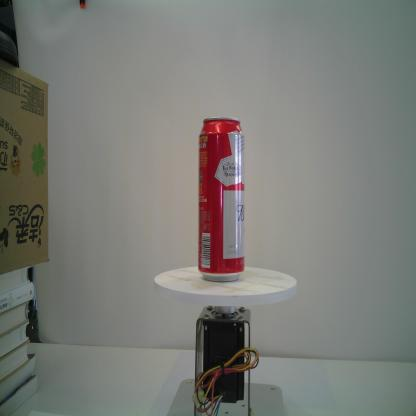Alcohol: (197, 116, 247, 284)
